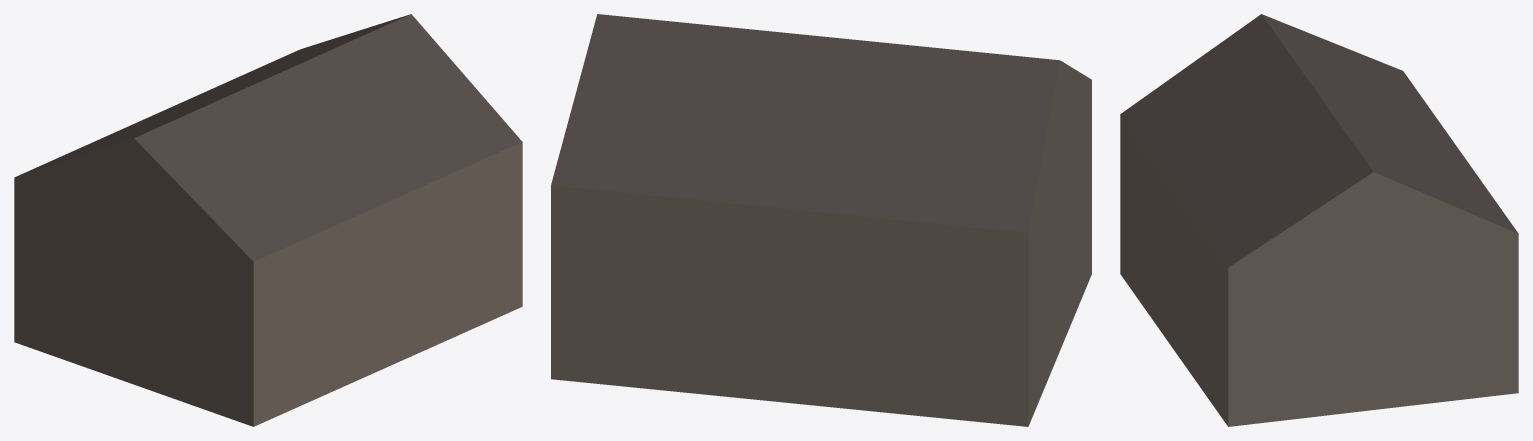
The picture shows the model from 3 angles, left to right: view 1: azimuth 30°, elevation 25°; view 2: azimuth 150°, elevation 25°; view 3: azimuth 270°, elevation 25°; orthographic projection. The views are drawn at different scales.
Visible parts, largest first — view 1: HP-w446934343; view 2: HP-w446934343; view 3: HP-w446934343.
Part boxes in pixels (left/top/right/bottom): HP-w446934343: left=14, top=14, right=522, bottom=426; HP-w446934343: left=551, top=14, right=1091, bottom=426; HP-w446934343: left=1120, top=14, right=1518, bottom=426.
Size of the model in its own units: 15.9 by 8.97 by 13.62.
